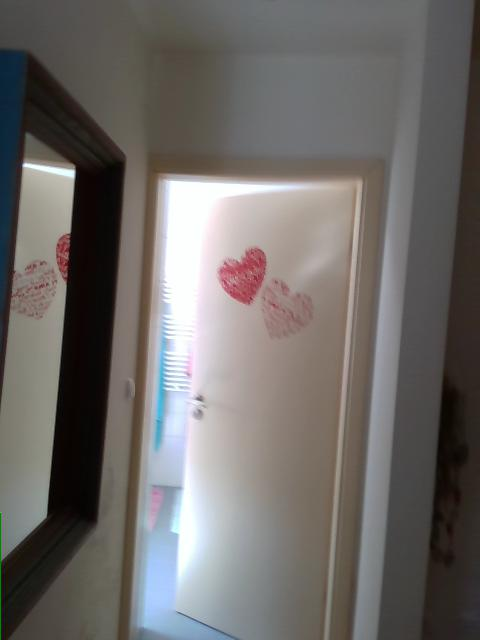semi_door: (116, 145, 386, 639)
